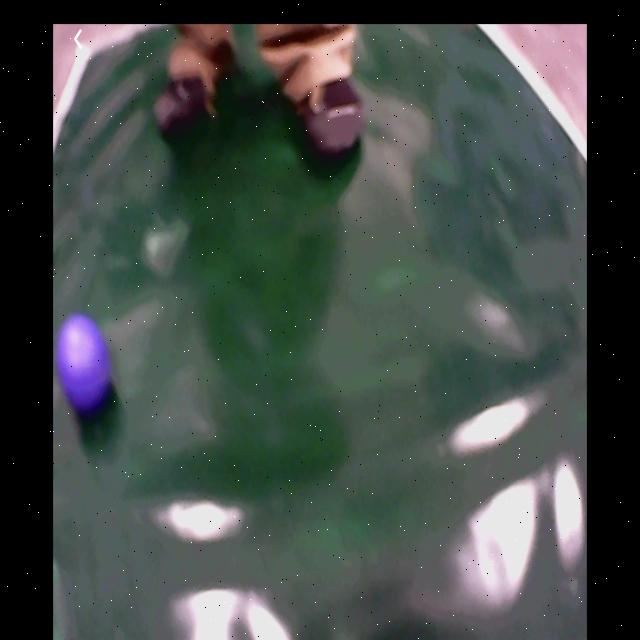ball: (59, 312, 110, 410)
